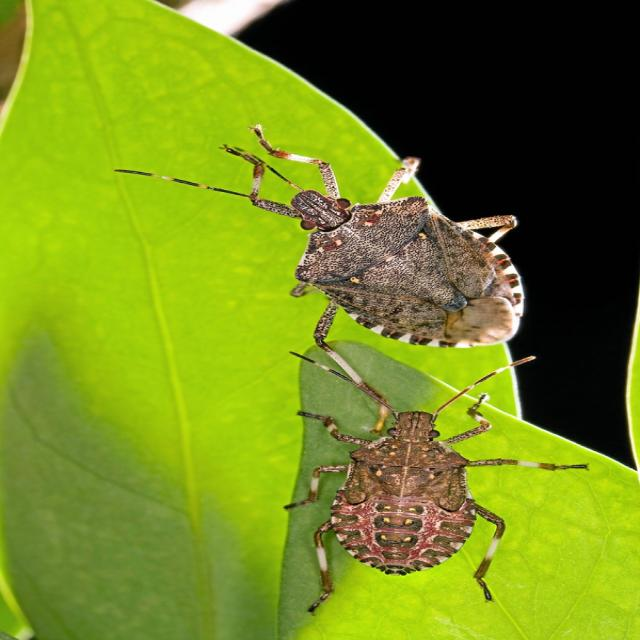stink_bug: (102, 102, 529, 382), (255, 332, 565, 613)
